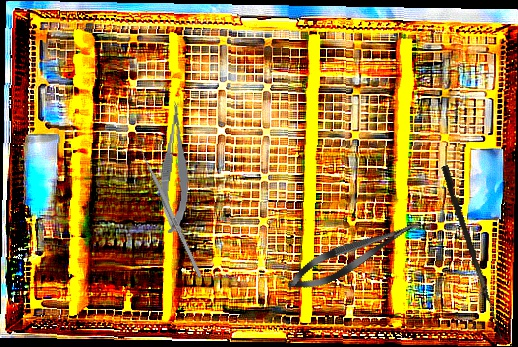Hook Surgical: (438, 164, 510, 340)
Micro Scissor: (281, 209, 430, 300), (154, 100, 199, 235)
Pusher: (134, 139, 203, 278)
